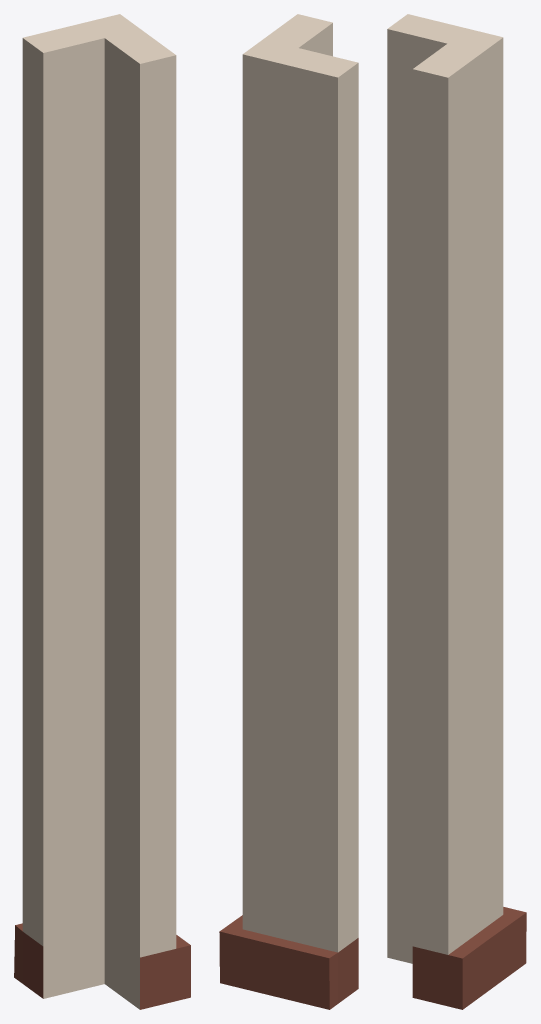
The model's file is Wall_corner_02.fbx.
3 renders of one model, left to right at view 1: azimuth 30°, elevation 25°; view 2: azimuth 150°, elevation 25°; view 3: azimuth 330°, elevation 25°, orthographic. The views are drawn at different scales.
Parts seen in each view (by area): view 1: Cube.023; view 2: Cube.023; view 3: Cube.023.
Part boxes in pixels (<box>): Cube.023: <box>14,14,190,1009</box>; Cube.023: <box>219,14,358,1009</box>; Cube.023: <box>387,14,526,1009</box>.
Size of the model in its own units: 0.7807 by 0.7752 by 6.25.
